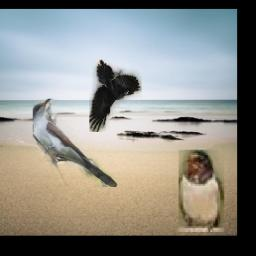Crow: (88, 59, 141, 132)
Cuckoo: (33, 98, 118, 187)
Swallow: (179, 151, 224, 233)
